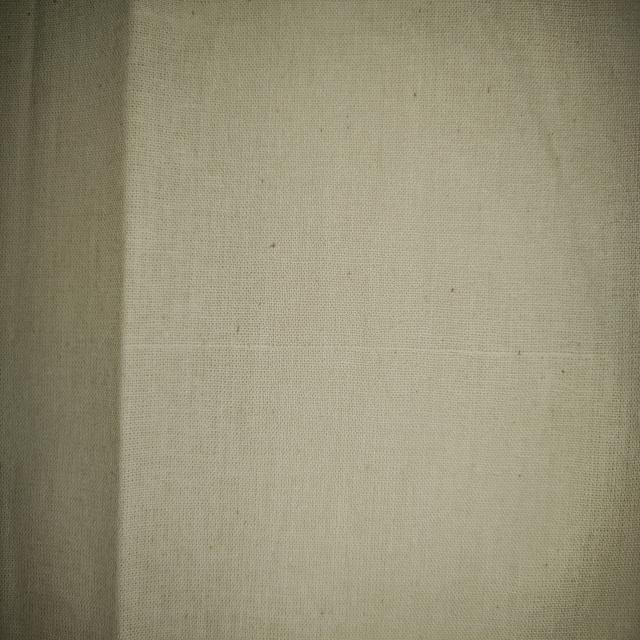Thread_other: (142, 290, 606, 427)
